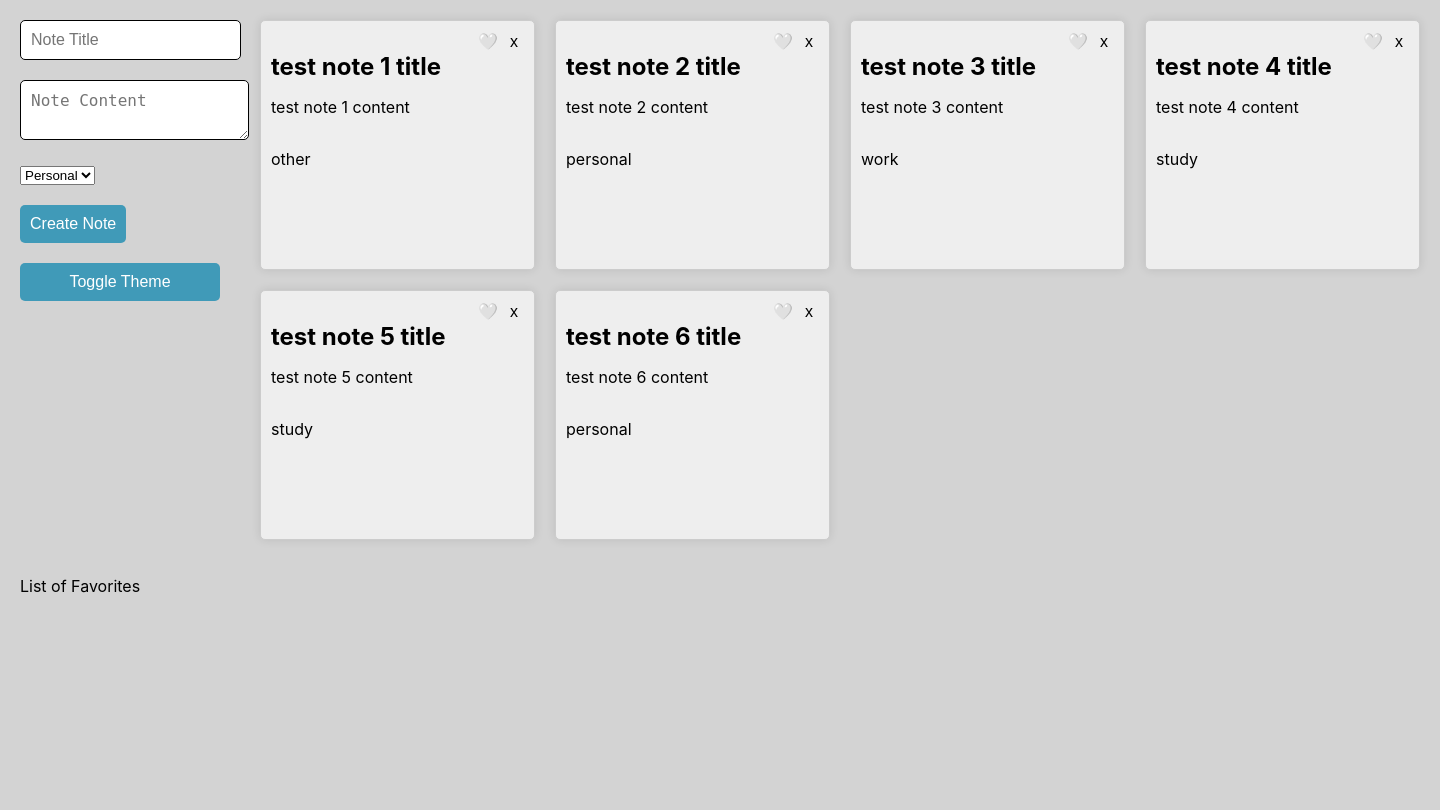
Scenario: remove StickyNote › deletes first note
This screenshot has width=1440, height=810.
Expected: the heading "test note 1 title" is shown, [271,52,441,81]
Expected: the text box "test note 1 content" is shown, [271,97,410,117]
Click the button with test id "x1": (514, 42) [504,31,524,52]
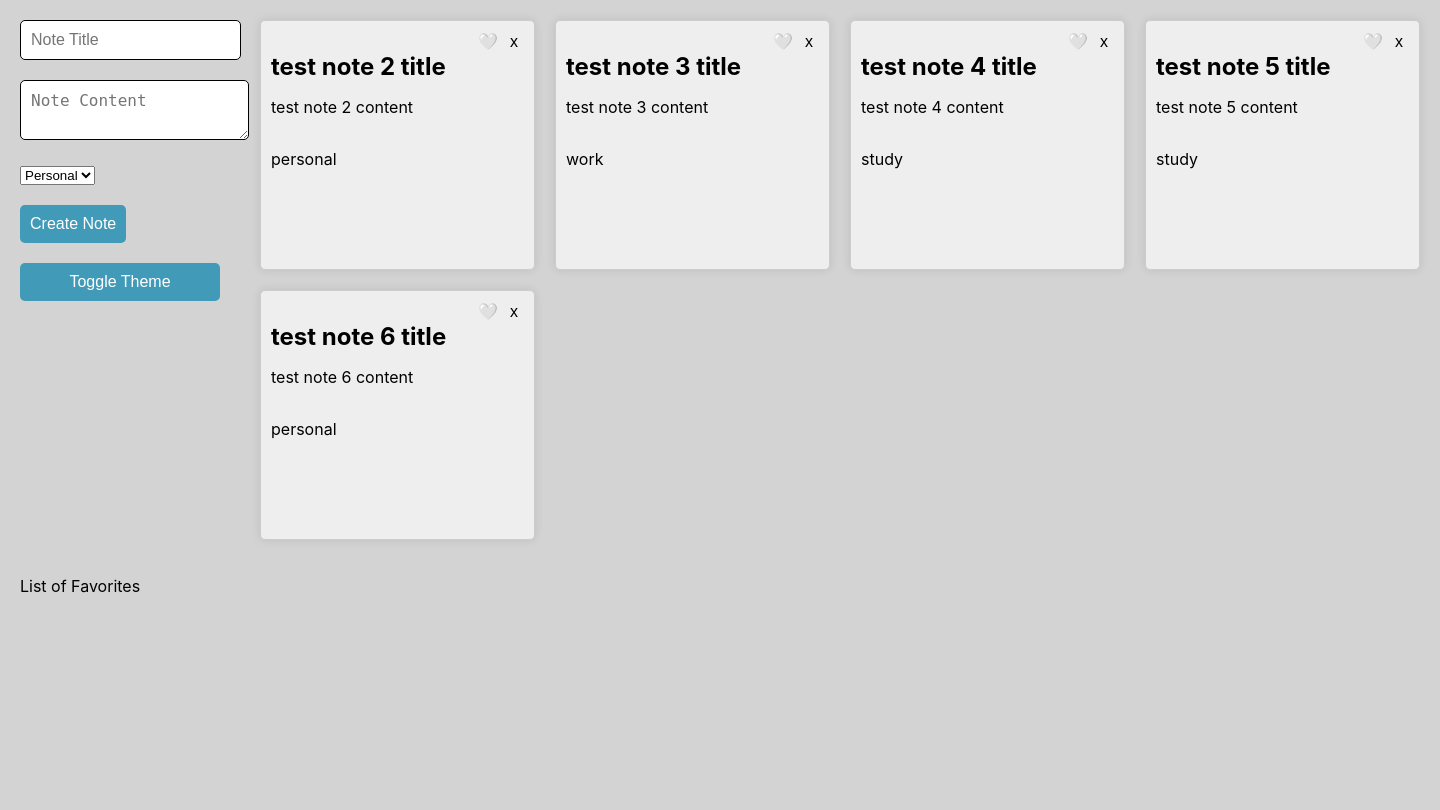
Expected: the text box "test note 1 content" is gone
